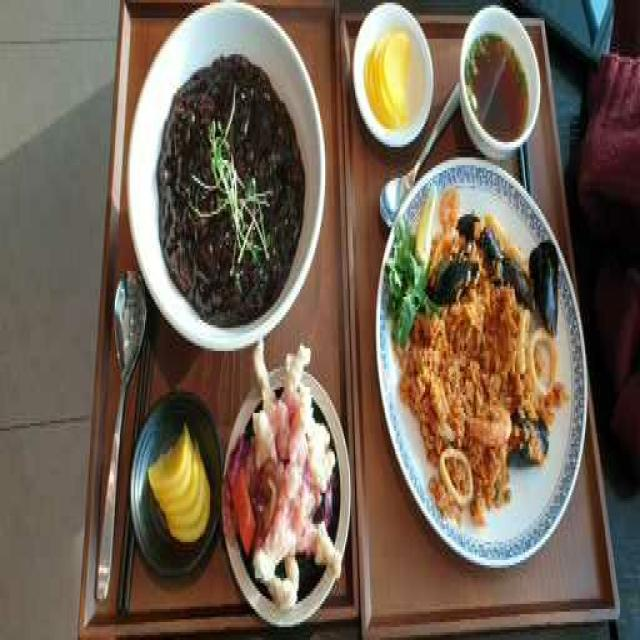Bowl: (125, 0, 326, 351), (459, 3, 540, 160)
Plate: (374, 155, 588, 568), (220, 364, 351, 627), (129, 387, 221, 578), (351, 0, 434, 147)
